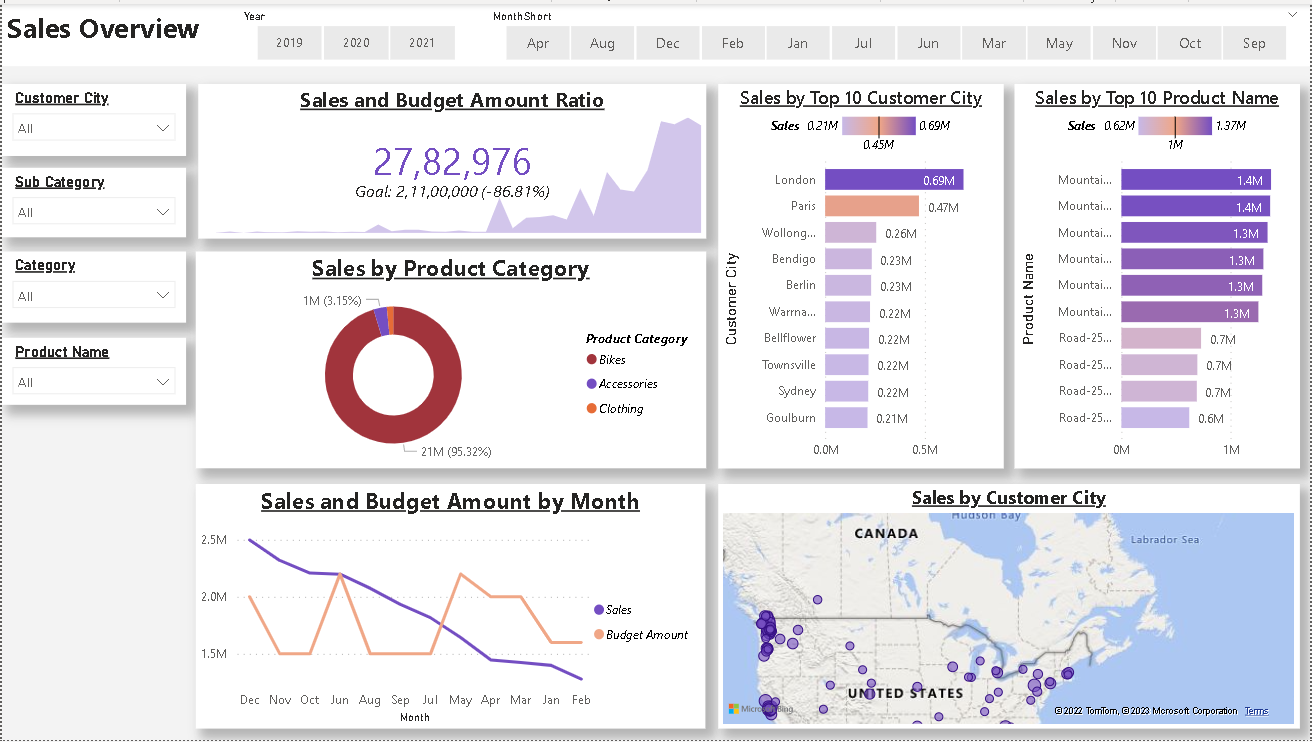

The dashboard page shown, as its layout file describes it:
{"tool":"powerbi","page":{"name":"Sales Overview","canvas":[1280,720],"ordinal":0},"visuals":[{"type":"textbox","box":[0,0,1280,61.1],"z":0},{"type":"slicer","fields":{"Values":["DIM_Customer.Customer City"]},"box":[0,77.8,179.6,70.6],"z":1000},{"type":"slicer","fields":{"Values":["DIM_Products.Sub Category"]},"box":[0,160.4,179.6,68.3],"z":2000},{"type":"slicer","fields":{"Values":["DIM_Products.Product Category"]},"box":[0,241.9,179.6,69.4],"z":3000},{"type":"slicer","fields":{"Values":["DIM_Products.Product Name"]},"box":[0,326.9,179.6,65.9],"z":4000},{"type":"slicer","fields":{"Values":["Dim_Date_Excel.Year"]},"box":[223.9,0,243.1,61.1],"z":5000},{"type":"slicer","fields":{"Values":["Dim_Date_Excel.MonthShort"]},"box":[467,0,813,61.1],"z":6000},{"type":"kpi","title":"Sales and Budget Amount Ratio","fields":{"Indicator":["Key Measures.Sales"],"Goal":["Key Measures.Budget_Amount"],"TrendLine":["FactInternetSale.SalesAmount"]},"box":[191.6,77.8,496.9,150.9],"z":7000},{"type":"donutChart","fields":{"Category":["DIM_Products.Product Category"],"Y":["Key Measures.Sales"]},"box":[189.2,241.9,499.3,211.9],"z":8000},{"type":"lineChart","fields":{"Y":["Key Measures.Sales","Key Measures.Budget_Amount"],"Category":["Dim_Date_Excel.MonthShort"]},"box":[189.5,468.9,498.5,239.2],"z":9000},{"type":"barChart","title":"Sales by Top 10 Customer City","fields":{"Y":["Key Measures.Sales"],"Category":["DIM_Customer.Customer City"]},"box":[700.5,77.8,279,376],"z":10000},{"type":"barChart","title":"Sales by Top 10 Product Name","fields":{"Y":["Key Measures.Sales"],"Category":["DIM_Products.Product Name"]},"box":[990.2,77.8,279,376],"z":11000},{"type":"map","fields":{"Category":["DIM_Customer.Customer City"],"Size":["Key Measures.Sales"]},"box":[700.4,469.4,568.4,239.6],"z":12000}]}

Visuals, with their boxes in screenshot pixels (x1, y1, x2, y2), scaled from the page's 1280x720 canvas onto the 1312x742 screenshot:
textbox: locate(0, 0, 1311, 63)
slicer - DIM_Customer.Customer City: locate(0, 80, 184, 153)
slicer - DIM_Products.Sub Category: locate(0, 165, 184, 236)
slicer - DIM_Products.Product Category: locate(0, 249, 184, 321)
slicer - DIM_Products.Product Name: locate(0, 337, 184, 405)
slicer - Dim_Date_Excel.Year: locate(229, 0, 479, 63)
slicer - Dim_Date_Excel.MonthShort: locate(479, 0, 1311, 63)
"Sales and Budget Amount Ratio" kpi: locate(196, 80, 706, 236)
donutChart - DIM_Products.Product Category x Key Measures.Sales: locate(194, 249, 706, 468)
lineChart - Key Measures.Sales x Key Measures.Budget_Amount: locate(194, 483, 705, 730)
"Sales by Top 10 Customer City" barChart: locate(718, 80, 1004, 468)
"Sales by Top 10 Product Name" barChart: locate(1015, 80, 1301, 468)
map - DIM_Customer.Customer City x Key Measures.Sales: locate(718, 484, 1301, 731)
